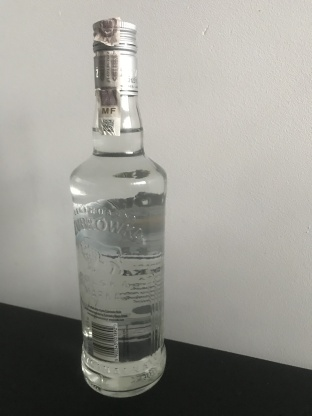nakretka: (90, 14, 140, 96)
